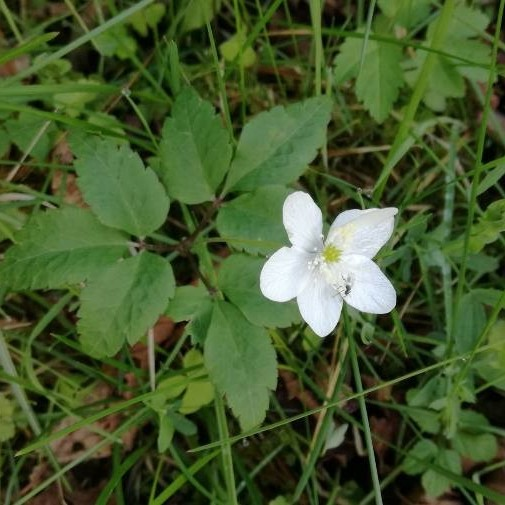obstacle: (62, 91, 390, 425)
